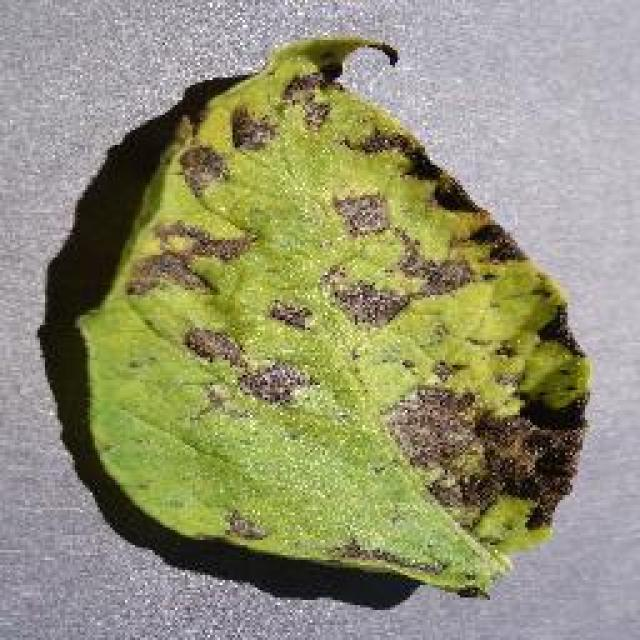Potato: (68, 32, 592, 600)
